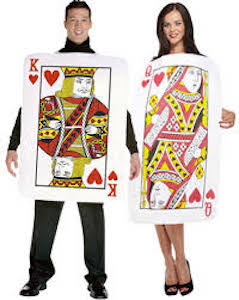KingOfHearts: (17, 49, 125, 207)
QueenOfHearts: (126, 50, 221, 226)
